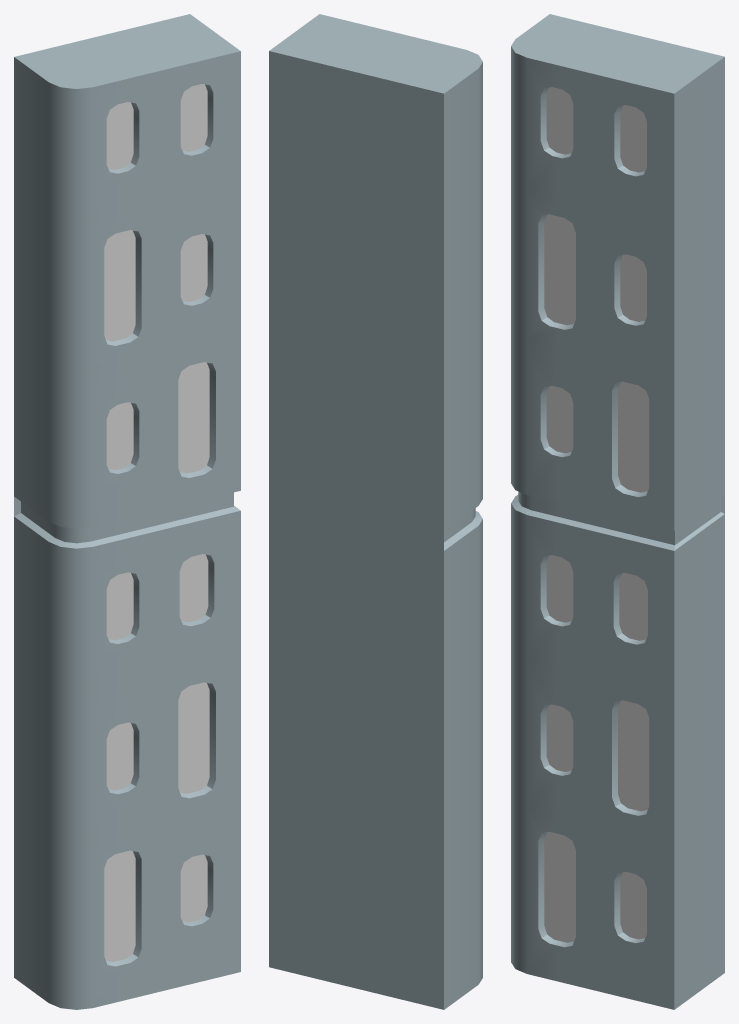
File: BackLeft_BigLight.fbx
The picture shows the model from 3 angles, left to right: view 1: azimuth 30°, elevation 25°; view 2: azimuth 150°, elevation 25°; view 3: azimuth 330°, elevation 25°; orthographic projection.
Visible parts, largest first — view 1: BackLeft_BigLight; view 2: BackLeft_BigLight; view 3: BackLeft_BigLight.
Part boxes in pixels (box(x1,y1,x2,y2)): BackLeft_BigLight: box(14, 14, 240, 1009); BackLeft_BigLight: box(269, 14, 482, 1009); BackLeft_BigLight: box(511, 14, 724, 1009).
Size of the model in its own units: 200 by 1000 by 100.
